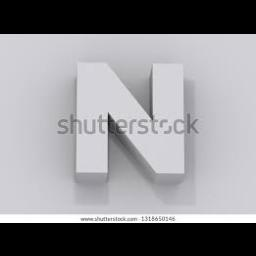n: (66, 54, 200, 188)
